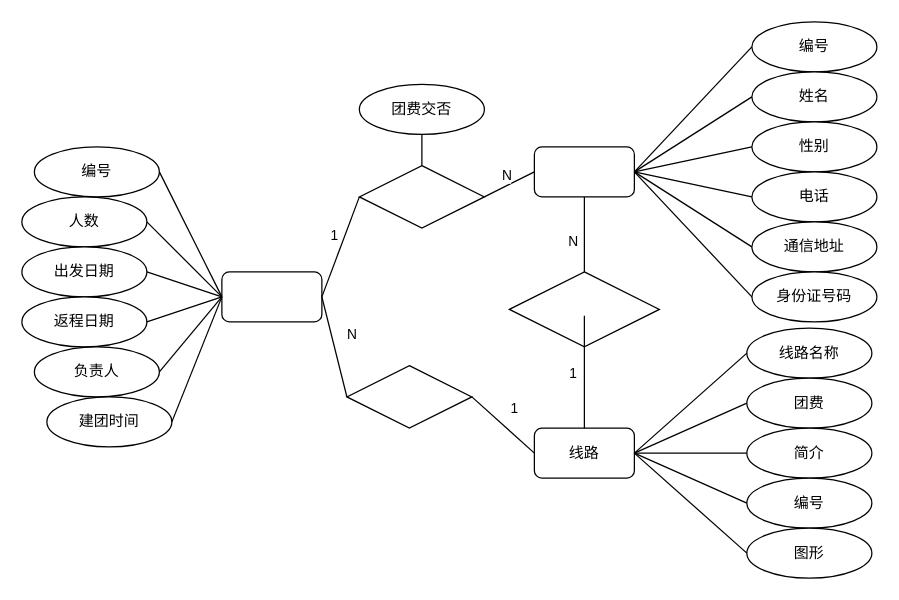
Image size: 899x600. Some labels were removed from this diagram. The centre of each missing label's shape, as x and y in pixels:
参与: the point at 583,309
团队: the point at 271,296
团队团员: the point at 583,171
属于: the point at 421,196
进行: the point at 409,396
